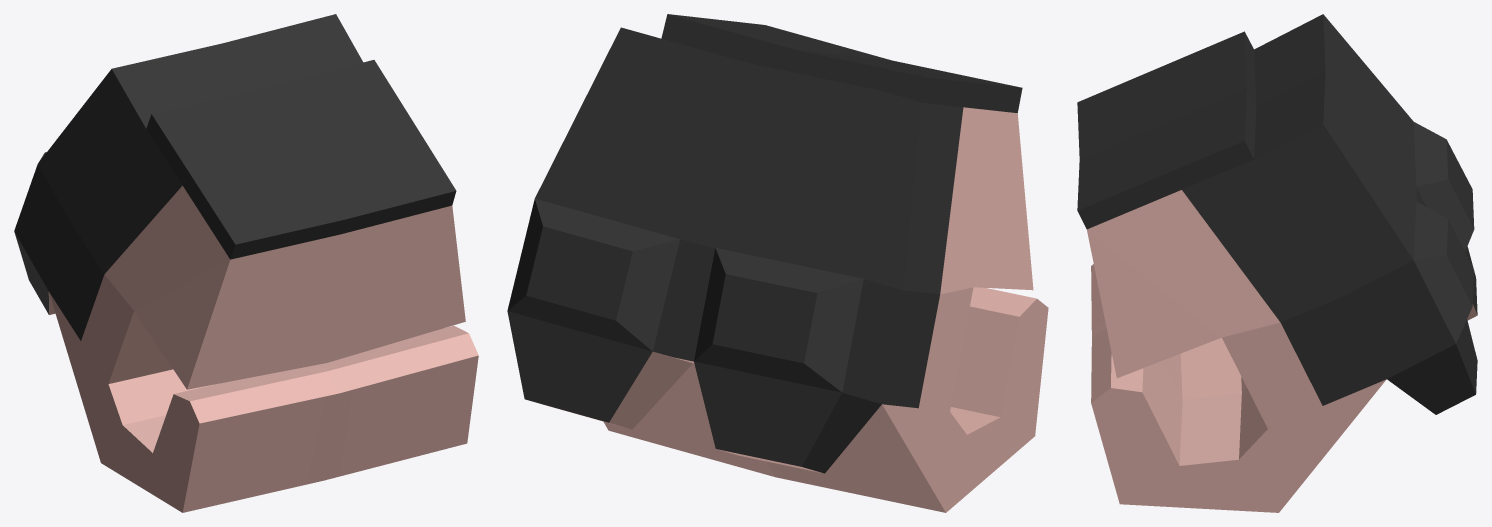
The model's file is cb_hand_2.gltf.
3 renders of one model, left to right at view 1: azimuth 30°, elevation 25°; view 2: azimuth 150°, elevation 25°; view 3: azimuth 270°, elevation 25°, orthographic. The views are drawn at different scales.
Visible parts, largest first — view 1: Sphere.008; view 2: Sphere.008; view 3: Sphere.008.
Part boxes in pixels (x1,y1,x2,y2): Sphere.008: [14, 14, 478, 512]; Sphere.008: [507, 14, 1048, 512]; Sphere.008: [1077, 14, 1477, 512].
Size of the model in its own units: 0.7805 by 0.9622 by 0.9275.
